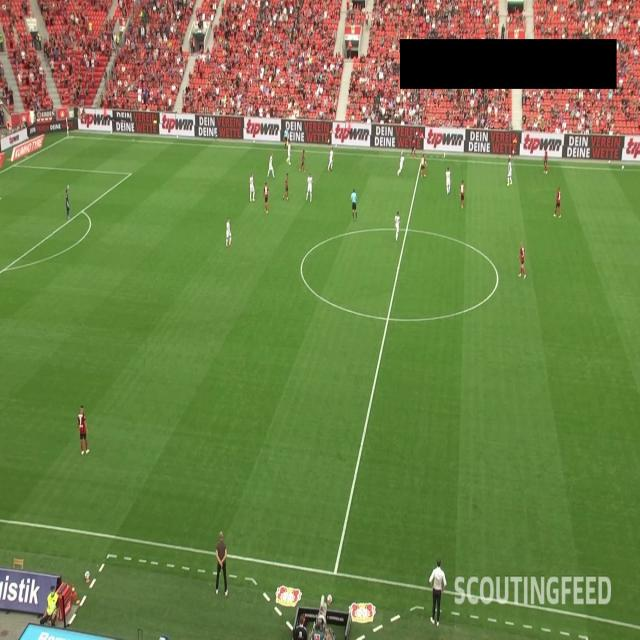ball: (415, 128, 419, 138)
player: (78, 404, 90, 457), (518, 242, 526, 279), (554, 184, 562, 218), (266, 152, 275, 182), (225, 216, 232, 250), (249, 172, 255, 205), (445, 165, 451, 197), (394, 210, 400, 240), (284, 172, 290, 201), (460, 179, 466, 208), (264, 182, 269, 216), (306, 173, 312, 200), (398, 155, 406, 175), (542, 149, 548, 172), (420, 155, 426, 177), (507, 159, 512, 185), (300, 148, 305, 172), (329, 146, 334, 170), (287, 142, 291, 169), (412, 136, 417, 154)
